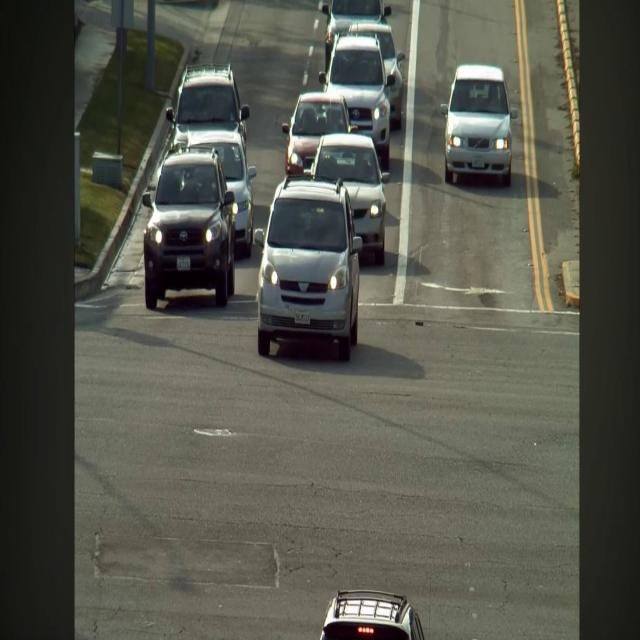car: (255, 175, 362, 360), (143, 148, 234, 310), (319, 34, 395, 171), (312, 134, 389, 265), (441, 64, 517, 186), (190, 131, 257, 258), (166, 64, 249, 146), (282, 91, 356, 175), (349, 23, 405, 129), (320, 591, 424, 639), (321, 0, 391, 70)
